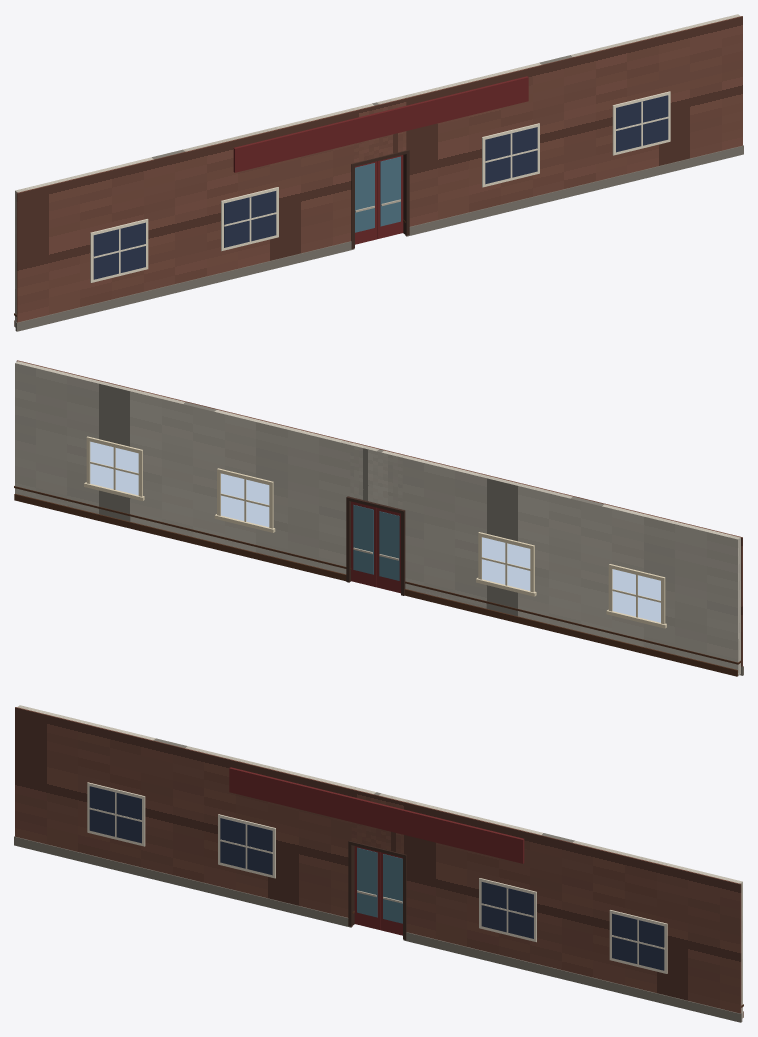
Rendered from middle_front.glb.
3 renders of one model, top to bottom at view 1: azimuth 30°, elevation 25°; view 2: azimuth 150°, elevation 25°; view 3: azimuth 330°, elevation 25°, orthographic.
Visible parts, largest first — view 1: Box6, Box8, Box22, Box7, Box9, Box46, Box57, Box35, Box24, Box10, Box1, Box19 (+9 smaller); view 2: Box1, Box3, Box5, Box2, Box4, Box42, Box53, Box64, Box31, Box67, Box15, Box19 (+6 smaller); view 3: Box8, Box6, Box22, Box9, Box7, Box35, Box24, Box46, Box57, Box10, Box3, Box15 (+9 smaller).
Boxes of the visible parts, x1=… form: Box6: x1=16, y1=111, x2=353, y2=322; Box8: x1=405, y1=16, x2=742, y2=235; Box22: x1=233, y1=76, x2=528, y2=172; Box7: x1=15, y1=241, x2=354, y2=331; Box9: x1=406, y1=145, x2=743, y2=236; Box46: x1=485, y1=127, x2=537, y2=184; Box57: x1=616, y1=95, x2=668, y2=152; Box35: x1=224, y1=191, x2=276, y2=247; Box24: x1=93, y1=222, x2=145, y2=279; Box10: x1=353, y1=98, x2=406, y2=163; Box1: x1=15, y1=108, x2=352, y2=327; Box19: x1=380, y1=156, x2=400, y2=226; Box1: x1=402, y1=455, x2=740, y2=675; Box3: x1=15, y1=361, x2=352, y2=574; Box5: x1=350, y1=443, x2=404, y2=509; Box2: x1=404, y1=589, x2=737, y2=676; Box4: x1=14, y1=493, x2=346, y2=581; Box42: x1=482, y1=537, x2=530, y2=590; Box53: x1=221, y1=473, x2=269, y2=526; Box64: x1=90, y1=441, x2=138, y2=495; Box31: x1=612, y1=569, x2=660, y2=622; Box67: x1=405, y1=584, x2=740, y2=675; Box15: x1=379, y1=511, x2=399, y2=580; Box19: x1=353, y1=505, x2=373, y2=574; Box8: x1=404, y1=802, x2=741, y2=1013; Box6: x1=15, y1=707, x2=352, y2=926; Box22: x1=229, y1=767, x2=524, y2=863; Box9: x1=403, y1=932, x2=742, y2=1022; Box7: x1=14, y1=836, x2=351, y2=927; Box35: x1=220, y1=818, x2=272, y2=875; Box24: x1=89, y1=786, x2=141, y2=843; Box46: x1=481, y1=882, x2=533, y2=938; Box57: x1=612, y1=913, x2=664, y2=970; Box10: x1=351, y1=789, x2=404, y2=854; Box3: x1=405, y1=799, x2=742, y2=1018; Box15: x1=357, y1=847, x2=377, y2=917.
Size of the model in its own units: 22.27 by 4.04 by 0.385.
12 materials, 2 textured.
